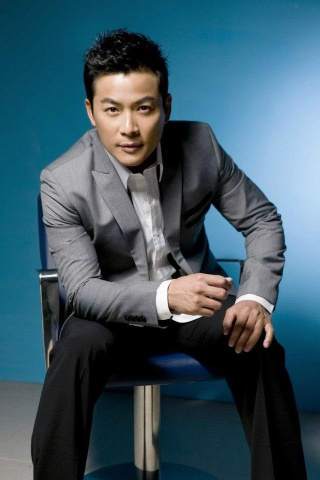male: (65, 20, 194, 184)
